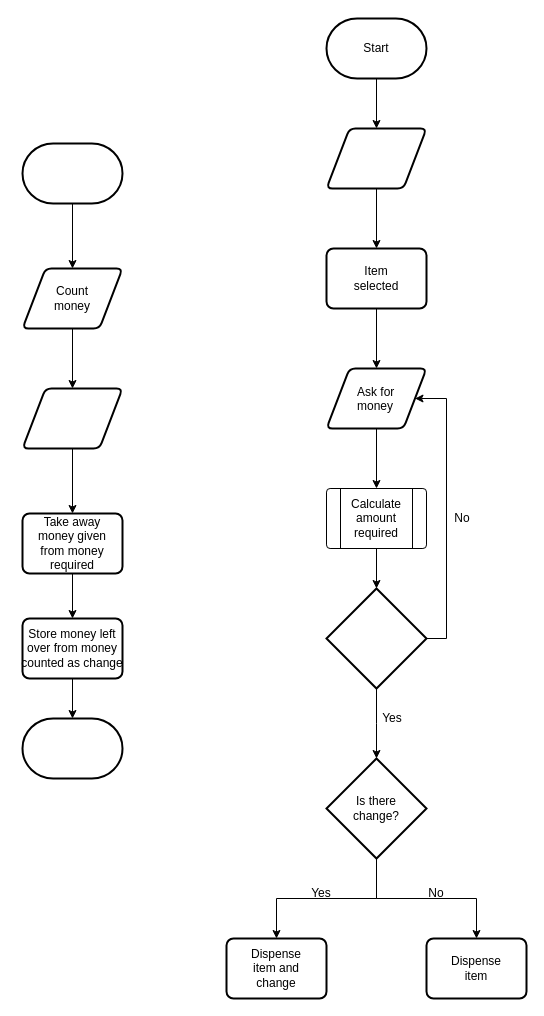
The diagram is 544 pixels wide and 1016 high, and some of its shapes have lost their labels. The shapes that lost their labels are listed below. From the top down, each one's box as (x1, y1, x2, y2) in pixels, then its label:
(21, 142, 123, 204): Money entered
(325, 127, 427, 189): Ask for item
(21, 387, 123, 449): Count amount required
(325, 587, 427, 689): Is it enough?
(21, 717, 123, 779): Money is enough
